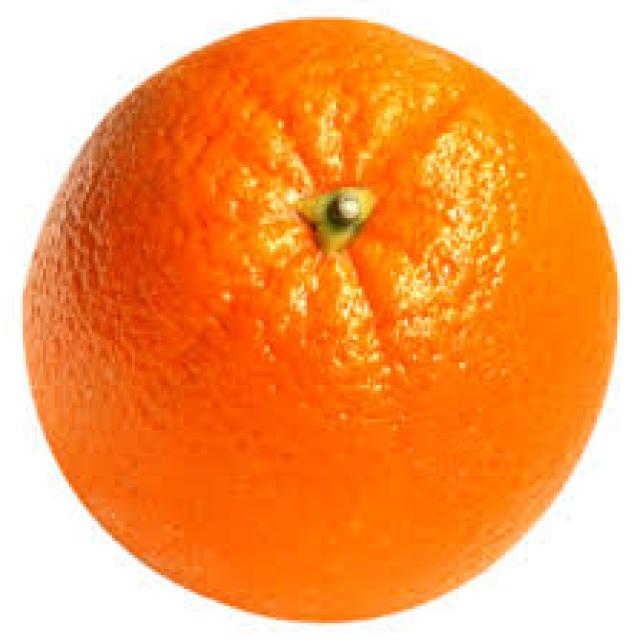orange: (21, 13, 616, 629)
